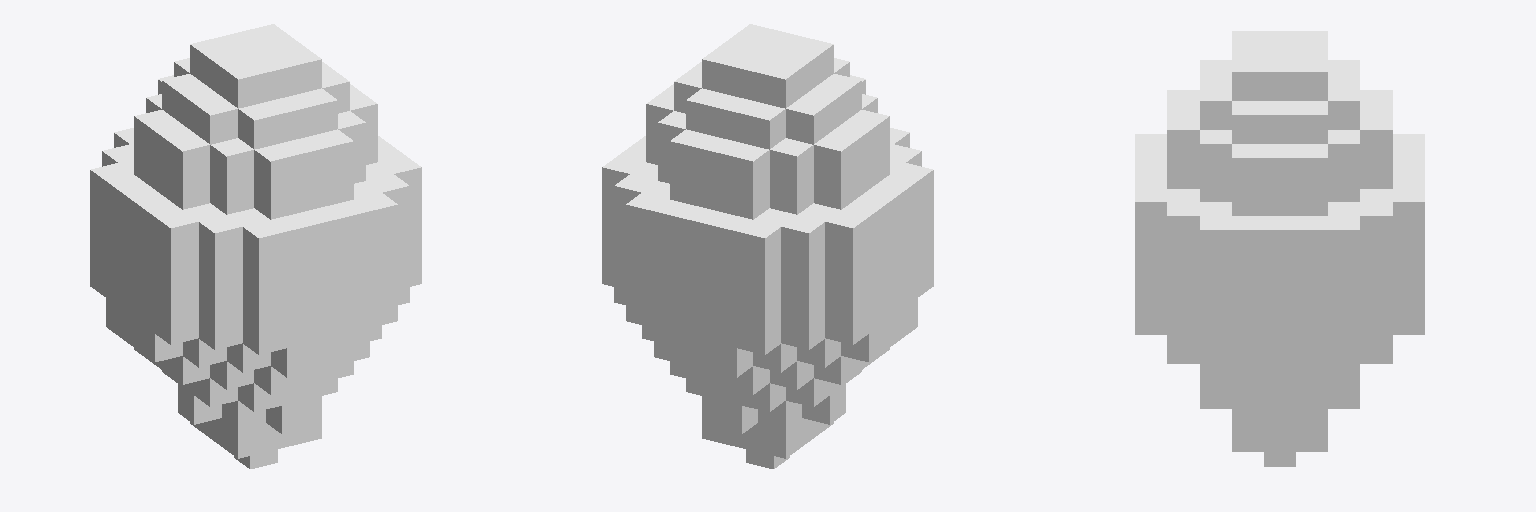
Rendered from lvl1-3.obj.
3 renders of one model, left to right at view 1: azimuth 30°, elevation 25°; view 2: azimuth 150°, elevation 25°; view 3: azimuth 270°, elevation 25°, orthographic.
Visible parts, largest first — view 1: object 1; view 2: object 1; view 3: object 1.
Boxes of the visible parts, <box> form: object 1: <box>90,24,421,468</box>; object 1: <box>602,24,933,468</box>; object 1: <box>1135,31,1424,466</box>.
Size of the model in its own units: 0.9 by 1.4 by 0.9.